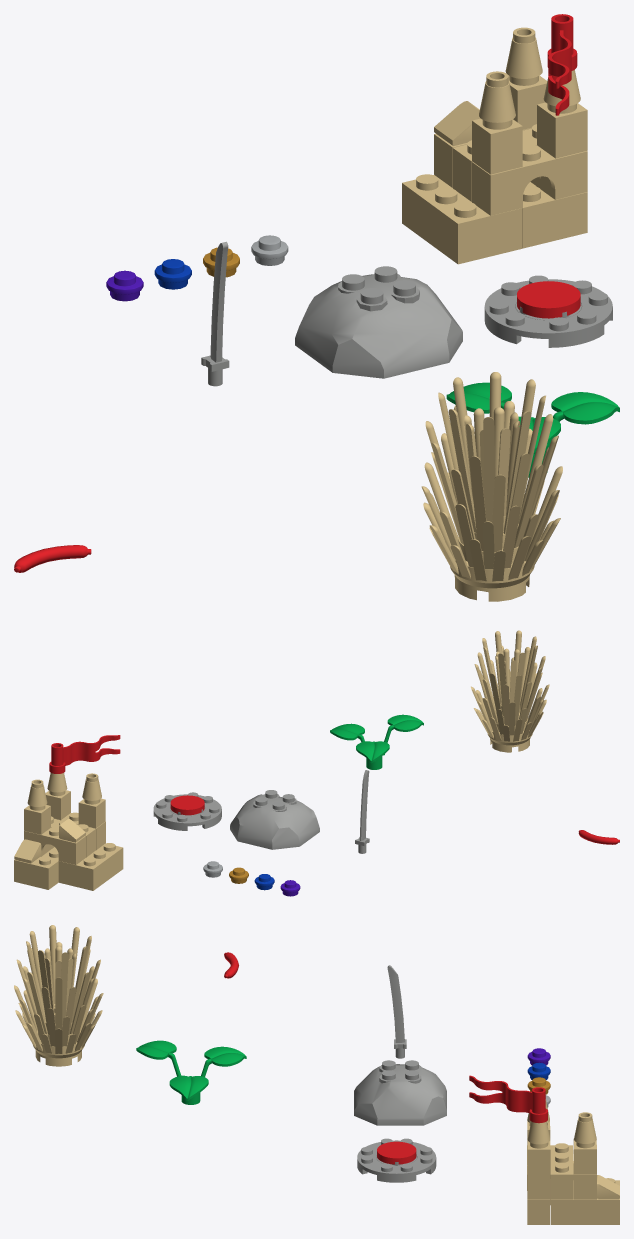
File: LEGO_Assets.fbx
3 views of the same model, one above another, from view 1: azimuth 30°, elevation 25°; view 2: azimuth 150°, elevation 25°; view 3: azimuth 270°, elevation 25° (orthographic). The views are drawn at different scales.
Visible parts, largest first — view 1: Object.014, Object.022, Object.085, Object.002, Object.165, Object.103, Object.015, Object.120, Object.118, Object.115, Object.183, Object.027 (+8 smaller); view 2: Object.014, Object.022, Object.002, Object.085, Object.015, Object.165, Object.115, Object.001, Object.120, Object.116, Object.027, Object.183 (+6 smaller); view 3: Object.014, Object.022, Object.085, Object.015, Object.165, Object.001, Object.115, Object.027, Object.183, Object.118, Object.116, Object.004 (+3 smaller).
Boxes of the visible parts, x1,y1,x2,y2 form: Object.014: [421, 372, 562, 601]; Object.022: [295, 266, 462, 378]; Object.085: [434, 124, 587, 215]; Object.002: [402, 174, 522, 264]; Object.165: [484, 275, 612, 347]; Object.103: [522, 186, 587, 248]; Object.015: [446, 382, 619, 477]; Object.120: [472, 118, 522, 174]; Object.118: [537, 102, 587, 158]; Object.115: [547, 14, 577, 115]; Object.183: [517, 281, 580, 318]; Object.027: [201, 241, 229, 386]; Object.014: [471, 630, 549, 752]; Object.022: [230, 790, 319, 849]; Object.002: [58, 843, 123, 890]; Object.085: [24, 812, 105, 864]; Object.015: [330, 714, 423, 769]; Object.165: [153, 792, 221, 830]; Object.115: [49, 735, 120, 773]; Object.001: [14, 847, 58, 889]; Object.120: [78, 798, 105, 828]; Object.116: [24, 805, 50, 834]; Object.027: [355, 770, 369, 853]; Object.183: [170, 795, 204, 815]; Object.014: [14, 925, 103, 1066]; Object.022: [354, 1060, 446, 1125]; Object.085: [527, 1143, 596, 1199]; Object.015: [136, 1040, 246, 1104]; Object.165: [357, 1138, 436, 1182]; Object.001: [550, 1178, 619, 1224]; Object.115: [469, 1075, 547, 1123]; Object.027: [387, 965, 406, 1058]; Object.183: [377, 1141, 416, 1164]; Object.118: [527, 1140, 550, 1174]; Object.116: [574, 1140, 596, 1174]; Object.004: [574, 1112, 596, 1148].
Size of the model in its own units: 3386 by 3525 by 919.
